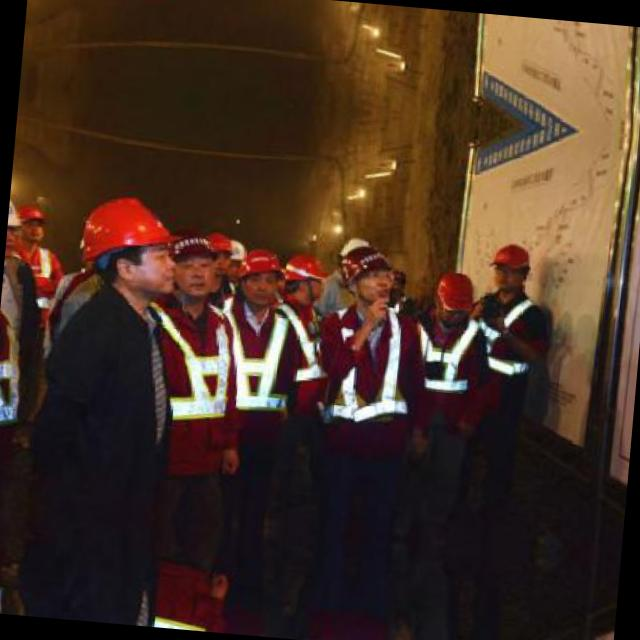helmet: (77, 190, 177, 302), (336, 240, 394, 312), (165, 230, 219, 298), (426, 268, 481, 330), (481, 236, 533, 294), (345, 247, 392, 310), (330, 234, 375, 294), (236, 244, 278, 304), (280, 251, 324, 303), (13, 198, 52, 242), (198, 226, 230, 278), (220, 237, 246, 286)
